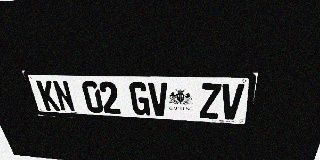0: (81, 81, 104, 113)
2: (98, 81, 121, 114)
G: (129, 82, 150, 116)
K: (36, 80, 61, 111)
N: (52, 80, 76, 112)
V: (220, 84, 245, 120), (148, 82, 169, 117)
Z: (200, 83, 222, 119)
